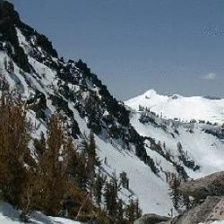neutral: (2, 3, 224, 220)
